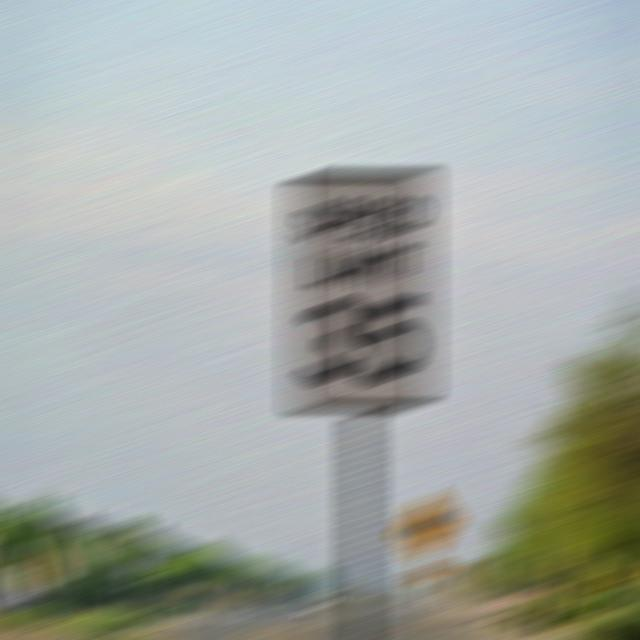speedLimit35: (296, 188, 429, 392)
